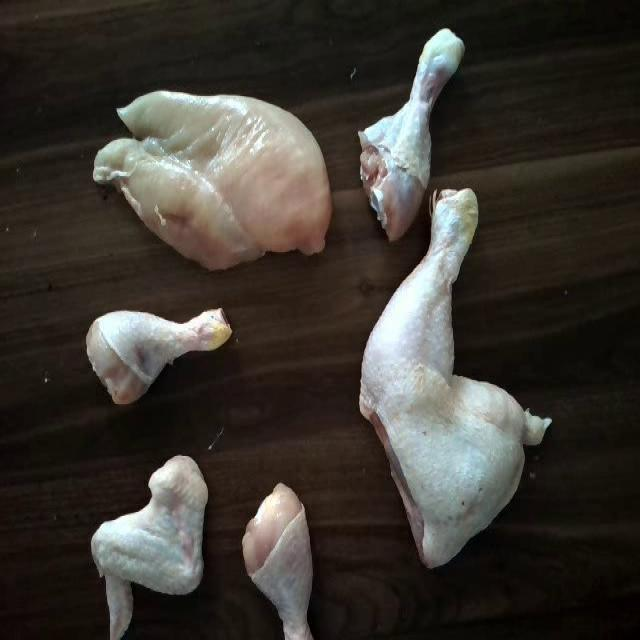breast: (102, 82, 334, 273)
leg: (356, 22, 467, 238), (80, 304, 234, 406), (236, 488, 330, 636)
quater: (349, 177, 555, 571)
wing: (90, 449, 217, 640)
